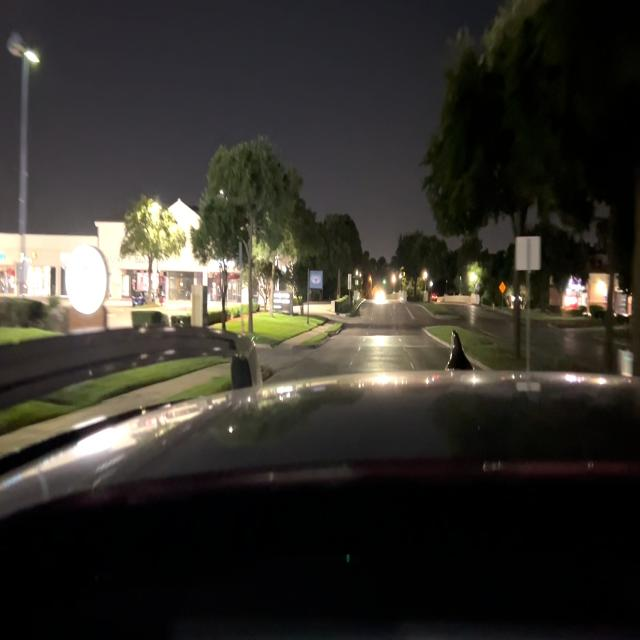back-of-sign: (518, 236, 540, 272)
